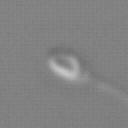normal: (83, 59, 128, 108)
